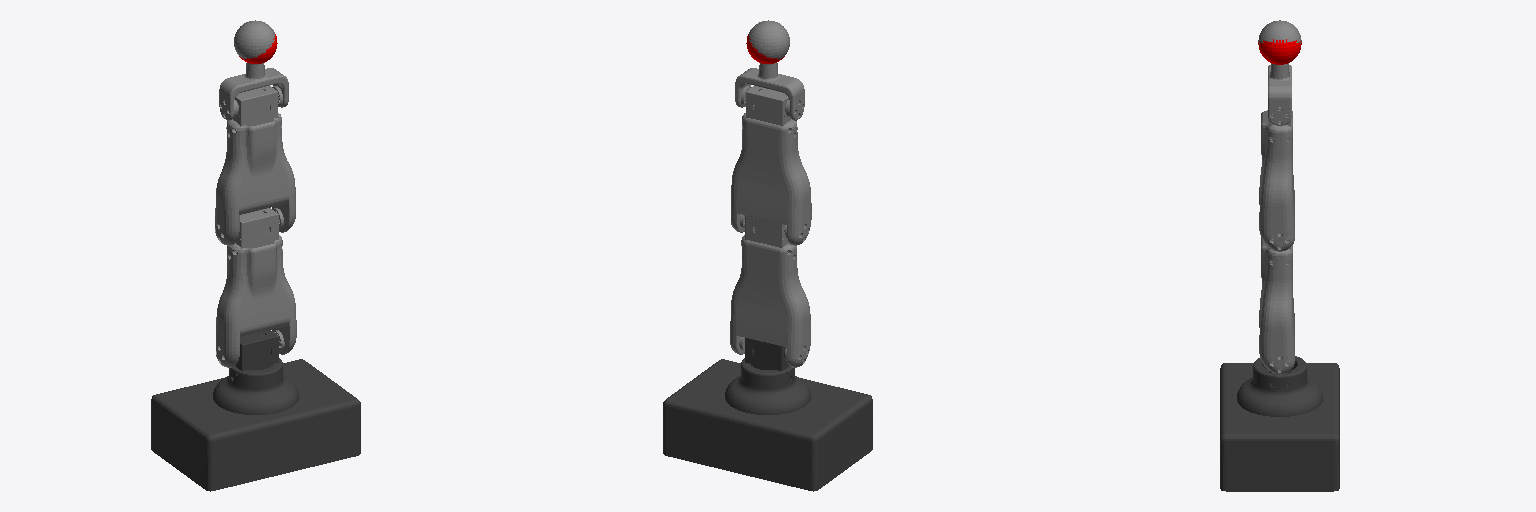
The robot description file, URDF, robot "4dof_2nd":
<?xml version="1.0" encoding="utf-8"?>
<!-- This URDF was automatically created by SolidWorks to URDF Exporter! Originally created by [author] ([email redacted]) 
     Commit Version: 1.6.0-4-g7f85cfe  Build Version: 1.6.7995.38578
     For more information, please see http://wiki.ros.org/sw_urdf_exporter -->
<robot
  name="4dof_2nd">
  <link
    name="base">
    <inertial>
      <origin
        xyz="1.42929172621762E-17 0.0279238800911216 2.10503937914057E-17"
        rpy="0 0 0" />
      <mass
        value="1.01233115660444" />
      <inertia
        ixx="0.00127851826321163"
        ixy="-3.25593266727571E-20"
        ixz="-2.05554382219427E-19"
        iyy="0.00330201153266579"
        iyz="-5.49569053241694E-20"
        izz="0.00254994453490086" />
    </inertial>
    <visual>
      <origin
        xyz="0 0 0"
        rpy="0 0 0" />
      <geometry>
        <mesh
          filename="package://4dof_2nd/meshes/base.STL" />
      </geometry>
      <material
        name="clear">
        <color
          rgba="0.3 0.3 0.3 1" />
      </material>
    </visual>
    <collision>
      <origin
        xyz="0 0 0"
        rpy="0 0 0" />
      <geometry>
        <mesh
          filename="package://4dof_2nd/meshes/base.STL" />
      </geometry>
    </collision>
  </link>
  <link
    name="L1">
    <inertial>
      <origin
        xyz="6.98379577508529E-08 0.00839921203566613 -0.00011619558777941"
        rpy="0 0 0" />
      <mass
        value="0.109719412381612" />
      <inertia
        ixx="4.04026836034197E-05"
        ixy="-1.24783674052978E-10"
        ixz="-1.4819993412198E-10"
        iyy="5.74445778942386E-05"
        iyz="-1.44657703020893E-07"
        izz="3.7937379436841E-05" />
    </inertial>
    <visual>
      <origin
        xyz="0 0 0"
        rpy="0 0 0" />
      <geometry>
        <mesh
          filename="package://4dof_2nd/meshes/L1.STL" />
      </geometry>
      <material
        name="clear">
        <color
          rgba="0.3 0.3 0.3 1" />
      </material>
    </visual>
    <collision>
      <origin
        xyz="0 0 0"
        rpy="0 0 0" />
      <geometry>
        <mesh
          filename="package://4dof_2nd/meshes/L1.STL" />
      </geometry>
    </collision>
  </link>
  <joint
    name="base_L1"
    type="continuous">
    <origin
      xyz="0 0 0.06806"
      rpy="1.5707963267949 0 1.5707963267949" />
    <parent
      link="base" />
    <child
      link="L1" />
    <axis
      xyz="0 1 0" />
  </joint>
  <link
    name="L2">
    <inertial>
      <origin
        xyz="-0.00129647999078647 -0.00118465769340787 0.0566012443608822"
        rpy="0 0 0" />
      <mass
        value="0.170654706462391" />
      <inertia
        ixx="0.000109933926735269"
        ixy="-4.20384262034178E-09"
        ixz="-1.33080338442296E-07"
        iyy="0.000175937920346225"
        iyz="-3.35596637163169E-07"
        izz="8.88608038466973E-05" />
    </inertial>
    <visual>
      <origin
        xyz="0 0 0"
        rpy="0 0 0" />
      <geometry>
        <mesh
          filename="package://4dof_2nd/meshes/L2.STL" />
      </geometry>
      <material
        name="gray">
        <color
          rgba="0.55 0.55 0.55 0.8" />
      </material>
    </visual>
    <collision>
      <origin
        xyz="0 0 0"
        rpy="0 0 0" />
      <geometry>
        <mesh
          filename="package://4dof_2nd/meshes/L2.STL" />
      </geometry>
    </collision>
  </link>
  <joint
    name="L1_L2"
    type="continuous">
    <origin
      xyz="0 0.04 0"
      rpy="-1.5707963267949 -1.5707963267949 0" />
    <parent
      link="L1" />
    <child
      link="L2" />
    <axis
      xyz="1 0 0" />
  </joint>
  <link
    name="L3">
    <inertial>
      <origin
        xyz="-0.00189647999078301 -0.00118488379204321 0.0566015314351151"
        rpy="0 0 0" />
      <mass
        value="0.170654706462391" />
      <inertia
        ixx="0.000109933926735617"
        ixy="-4.23764182070938E-09"
        ixz="-1.33037424077722E-07"
        iyy="0.000175937861381518"
        iyz="-3.35582049385204E-07"
        izz="8.88608628117516E-05" />
    </inertial>
    <visual>
      <origin
        xyz="0 0 0"
        rpy="0 0 0" />
      <geometry>
        <mesh
          filename="package://4dof_2nd/meshes/L3.STL" />
      </geometry>
      <material
        name="gray">
        <color
          rgba="0.55 0.55 0.55 0.8" />
      </material>
    </visual>
    <collision>
      <origin
        xyz="0 0 0"
        rpy="0 0 0" />
      <geometry>
        <mesh
          filename="package://4dof_2nd/meshes/L3.STL" />
      </geometry>
    </collision>
  </link>
  <joint
    name="L2_L3"
    type="continuous">
    <origin
      xyz="0 0 0.125"
      rpy="0 0 0" />
    <parent
      link="L2" />
    <child
      link="L3" />
    <axis
      xyz="1 0 0" />
  </joint>
  <link
    name="L4">
    <inertial>
      <origin
        xyz="0.00116245884397085 2.34172468517022E-07 0.0277339006086252"
        rpy="0 0 0" />
      <mass
        value="0.0325264957149247" />
      <inertia
        ixx="1.01555656643839E-05"
        ixy="-8.10498518271107E-12"
        ixz="8.02258623945075E-08"
        iyy="1.80812385427838E-05"
        iyz="1.35894772223515E-11"
        izz="1.0414449972661E-05" />
    </inertial>
    <visual>
      <origin
        xyz="0 0 0"
        rpy="0 0 0" />
      <geometry>
        <mesh
          filename="package://4dof_2nd/meshes/L4.STL" />
      </geometry>
      <material
        name="gray">
        <color
          rgba="0.55 0.55 0.55 0.8" />
      </material>
    </visual>
    <collision>
      <origin
        xyz="0 0 0"
        rpy="0 0 0" />
      <geometry>
        <mesh
          filename="package://4dof_2nd/meshes/L4.STL" />
      </geometry>
    </collision>
  </link>
  <joint
    name="L3_L4"
    type="continuous">
    <origin
      xyz="0 0 0.125"
      rpy="0 0 3.14159265358979" />
    <parent
      link="L3" />
    <child
      link="L4" />
    <axis
      xyz="-1 0 0" />
  </joint>

  <!-- to visualize ee only -->
  <link
      name="sphere_link">
      <inertial>
        <origin
          xyz="0 0 0"
          rpy="0 0 0" />
        <mass
          value="0.005" /> <!-- Adjust mass according to the sphere's size -->
        <inertia
          ixx="2.5e-6"
          ixy="0"
          ixz="0"
          iyy="2.5e-6"
          iyz="0"
          izz="2.5e-6" /> <!-- Approximate values for a small sphere -->
      </inertial>
      <visual>
        <origin
          xyz="0 0 0"
          rpy="0 0 0" />
        <geometry>
          <sphere radius="0.02" /> <!-- Specify the radius of the sphere -->
        </geometry>
        <material
          name="red">
          <color
            rgba="1 0 0 1" /> <!-- Red color with full opacity -->
        </material>
      </visual>
      <collision>
        <origin
          xyz="0 0 0"
          rpy="0 0 0" />
        <geometry>
          <sphere radius="0.02" />
        </geometry>
      </collision>
  </link>

  <!-- New Joint to Connect Sphere to L4 -->
  <joint
      name="L4_sphere_joint"
      type="fixed">
      <origin
        xyz="0 0 0.06"
        rpy="0 0 0" />
      <parent
        link="L4" />
      <child
        link="sphere_link" />
  </joint>

</robot>

--- Facts derived from the render (not from the file) ---
Views: 3 orthographic renders of the robot side by side, from view 1: azimuth 30°, elevation 25°; view 2: azimuth 150°, elevation 25°; view 3: azimuth 270°, elevation 25°.
Model 4dof_2nd with 6 links and 5 joints (4 continuous, 1 fixed), rooted at base, posed every joint at zero.
Links seen in each view (by area): view 1: base, L3, L2, L1, L4; view 2: base, L3, L2, L1, L4; view 3: base, L3, L2, L1, L4, sphere_link.
Link boxes in pixels (box(x1,y1,x2,y2)): base: box(151, 359, 360, 491); L3: box(215, 86, 295, 245); L2: box(216, 208, 296, 367); L1: box(213, 330, 298, 414); L4: box(219, 20, 288, 120); base: box(663, 359, 872, 491); L3: box(731, 86, 811, 245); L2: box(730, 215, 810, 367); L1: box(725, 338, 810, 414); L4: box(735, 20, 804, 120); base: box(1220, 363, 1339, 491); L3: box(1259, 110, 1294, 251); L2: box(1259, 237, 1294, 374); L1: box(1237, 356, 1322, 416); L4: box(1258, 20, 1301, 125); sphere_link: box(1258, 39, 1301, 64).
Size in the robot's own frame: 0.165 by 0.11 by 0.4391 metres.
5 mesh visuals loaded from 5 distinct referenced files (5 binary STL).
